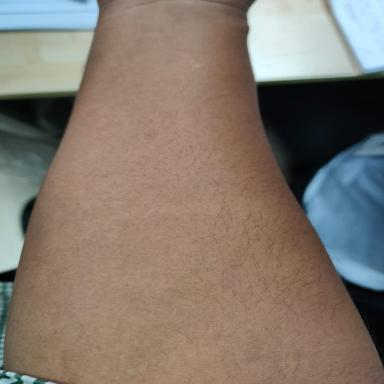normal skin: (5, 0, 383, 384)
